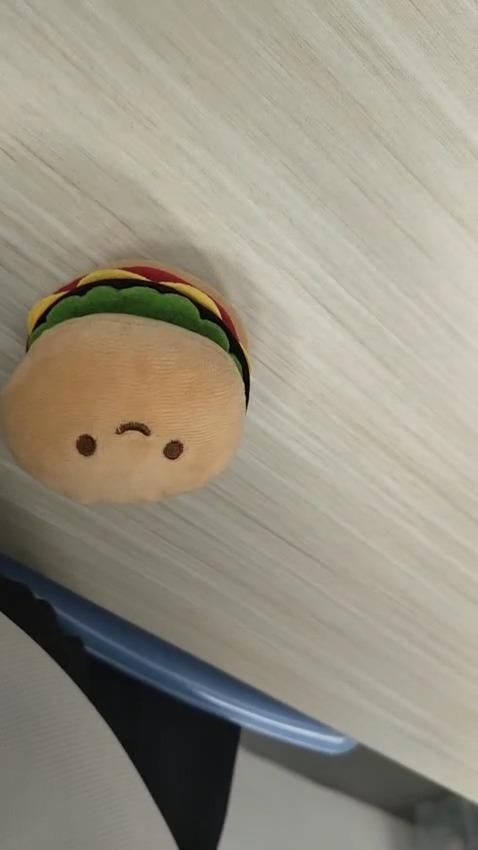hamburger: (8, 260, 250, 511)
